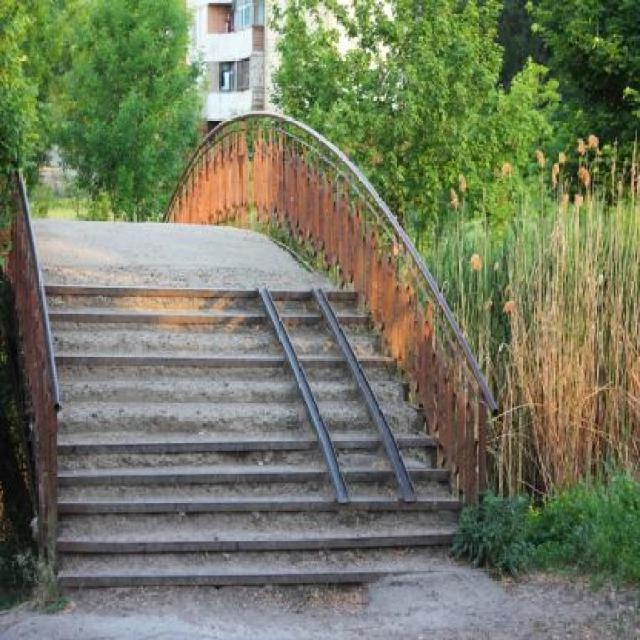stair: (57, 289, 465, 585)
